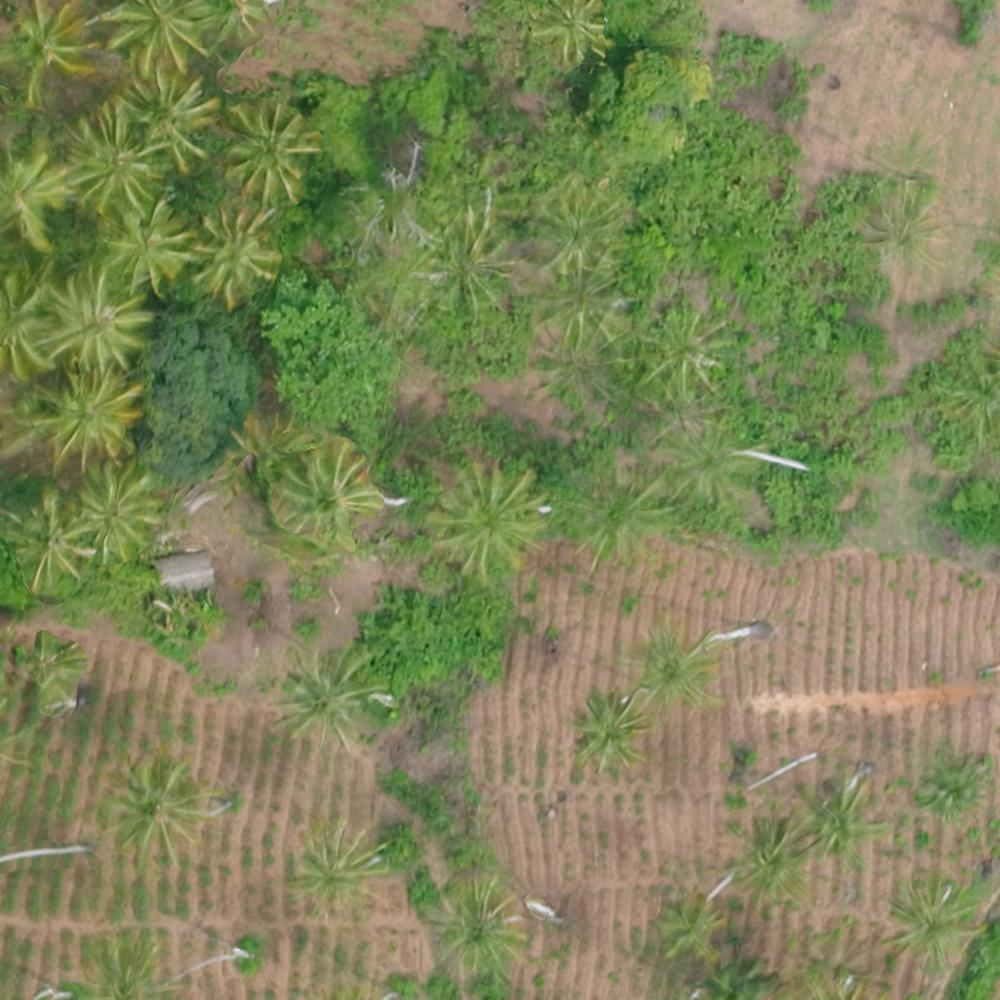Palm: (432, 457, 543, 574), (28, 361, 147, 464), (269, 441, 381, 547), (47, 265, 154, 371), (99, 758, 209, 859), (421, 871, 528, 974), (274, 641, 378, 746), (212, 98, 313, 204), (62, 111, 163, 213), (110, 71, 215, 169), (2, 1, 99, 100), (69, 458, 164, 556), (98, 201, 192, 297), (885, 874, 980, 966), (618, 625, 714, 714), (192, 205, 282, 299), (798, 768, 886, 864), (105, 1, 215, 77), (286, 823, 382, 910), (9, 494, 99, 584), (727, 813, 810, 900), (566, 686, 648, 765), (649, 892, 725, 967), (536, 1, 612, 66)
